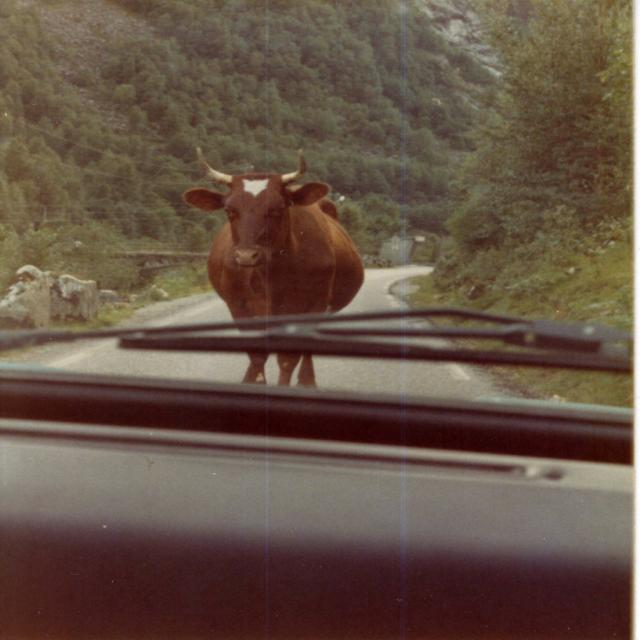Bull: (182, 150, 367, 392)
